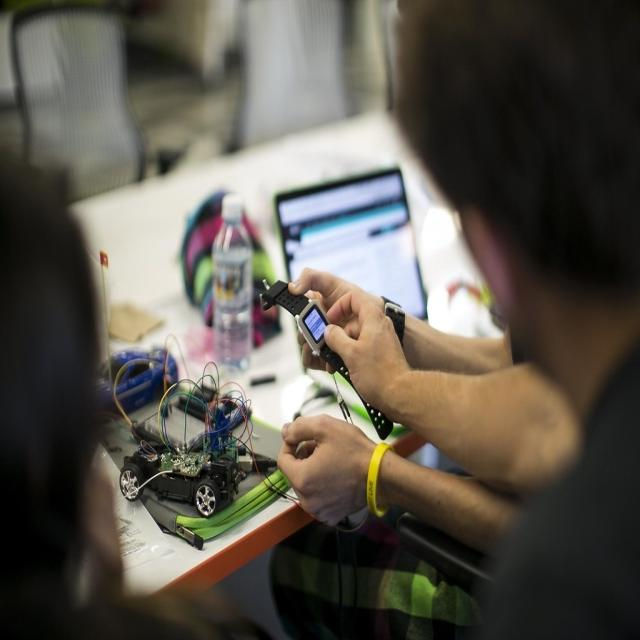Cable: (99, 324, 270, 538)
